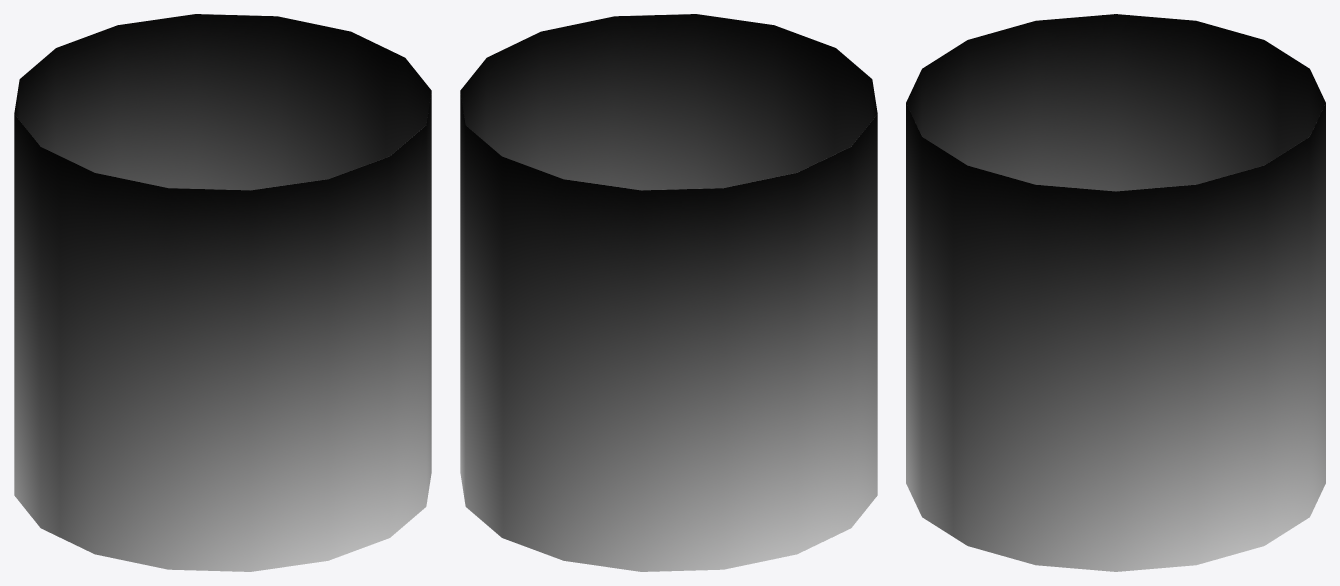
File: Cilindro.obj
The picture shows the model from 3 angles, left to right: view 1: azimuth 30°, elevation 25°; view 2: azimuth 150°, elevation 25°; view 3: azimuth 270°, elevation 25°; orthographic projection.
Parts seen in each view (by area): view 1: Tube1; view 2: Tube1; view 3: Tube1.
Part boxes in pixels (x1,y1,x2,y2): Tube1: (14, 14, 431, 571); Tube1: (460, 14, 877, 571); Tube1: (906, 14, 1325, 571).
Size of the model in its own units: 2 by 2 by 2.
1 material, 1 textured.
